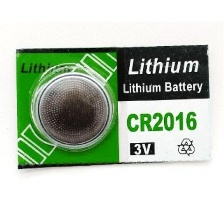battery: (31, 67, 115, 153)
book: (8, 39, 214, 173)
